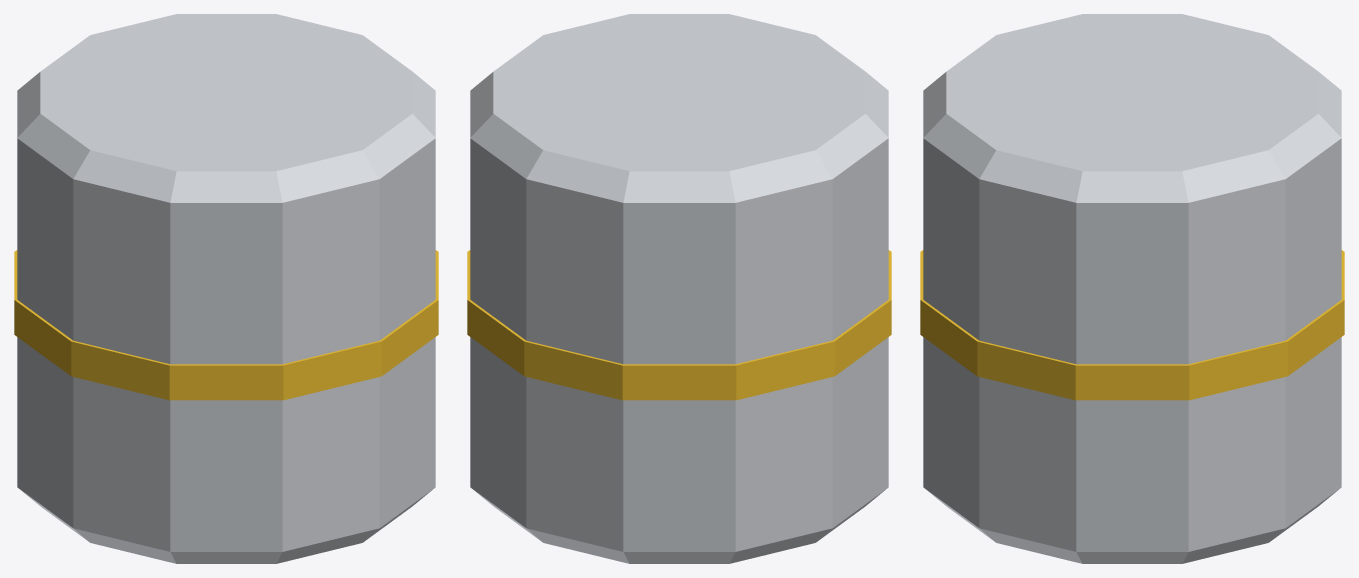
Rendered from mini_can.glb.
3 renders of one model, left to right at view 1: azimuth 30°, elevation 25°; view 2: azimuth 150°, elevation 25°; view 3: azimuth 270°, elevation 25°, orthographic.
Visible parts, largest first — view 1: mini_can; view 2: mini_can; view 3: mini_can.
Part boxes in pixels (x1,y1,x2,y2): mini_can: [14, 14, 438, 563]; mini_can: [467, 14, 891, 563]; mini_can: [920, 14, 1344, 563].
Bounding box in the file's own units: 0.8809 × 0.9 × 0.8809.
